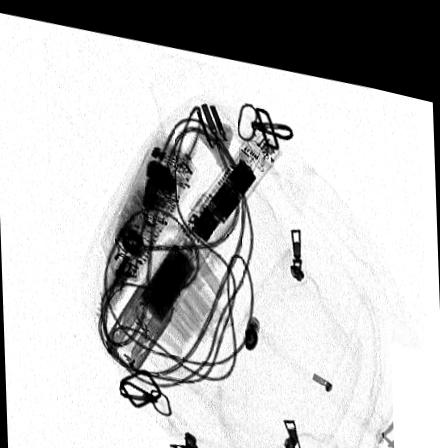Baton: (100, 109, 285, 368)
